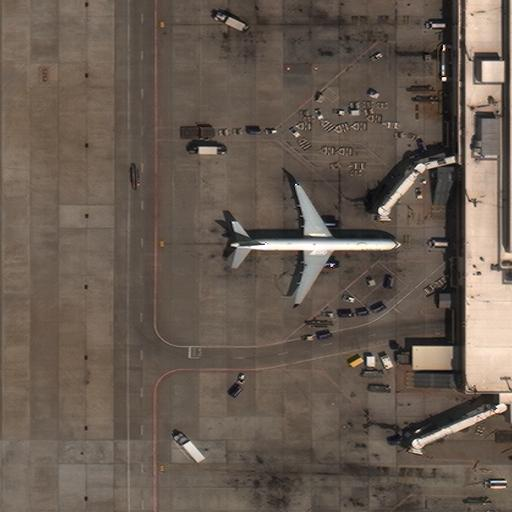Large Civil Transport: (226, 182, 403, 304)
